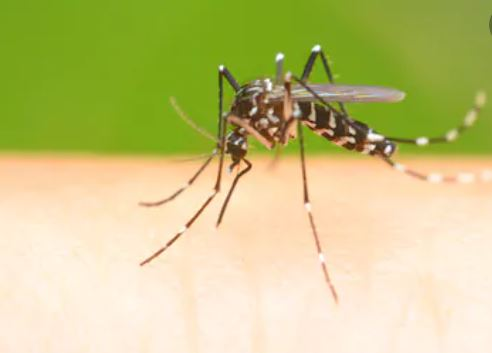dengue_mosquito: (156, 45, 434, 200)
